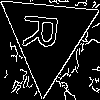R: (22, 11, 66, 52)
